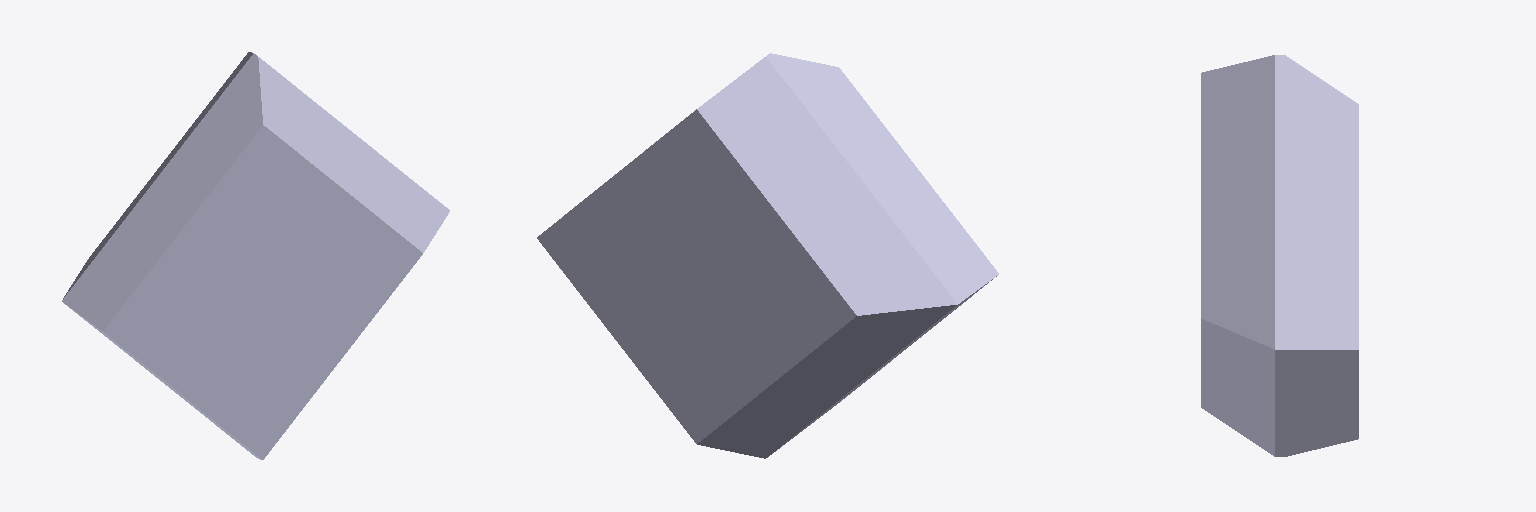
Rendered from sphene.obj.
3 renders of one model, left to right at view 1: azimuth 30°, elevation 25°; view 2: azimuth 150°, elevation 25°; view 3: azimuth 270°, elevation 25°, orthographic.
Bounding box in the file's own units: 1.7 × 1.7 × 0.6.